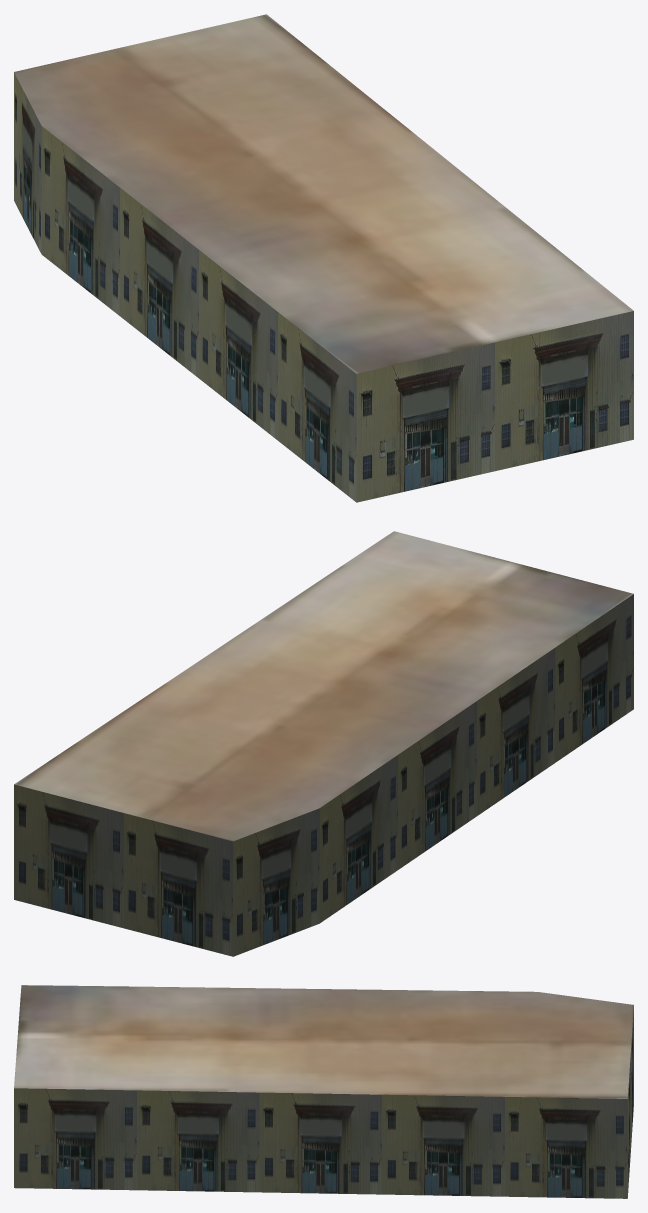
File: T_1SVUS4NV64.dae
The picture shows the model from 3 angles, top to bottom: view 1: azimuth 30°, elevation 25°; view 2: azimuth 150°, elevation 25°; view 3: azimuth 270°, elevation 25°; orthographic projection. The views are drawn at different scales.
Visible parts, largest first — view 1: SketchUp (×4); view 2: SketchUp (×4); view 3: SketchUp (×3).
Boxes of the visible parts, x1,y1,x2,y2 form: SketchUp (×4): (14,14,633,502); SketchUp (×4): (14,531,633,956); SketchUp (×3): (14,985,633,1198).
Size of the model in its own units: 11.37 by 26.16 by 4.65.
Materials: 2 (2 with a texture image).
